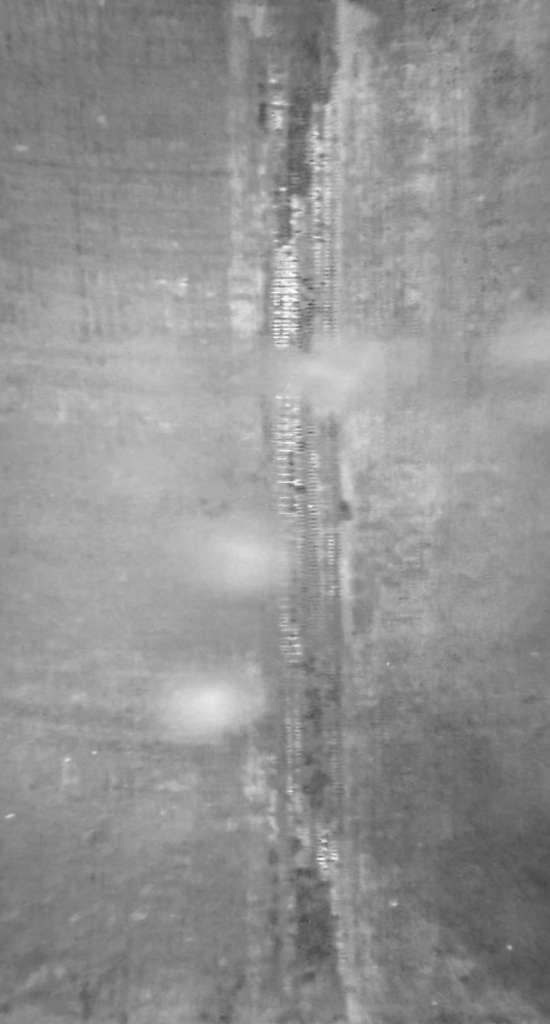splice: (249, 5, 349, 1024)
